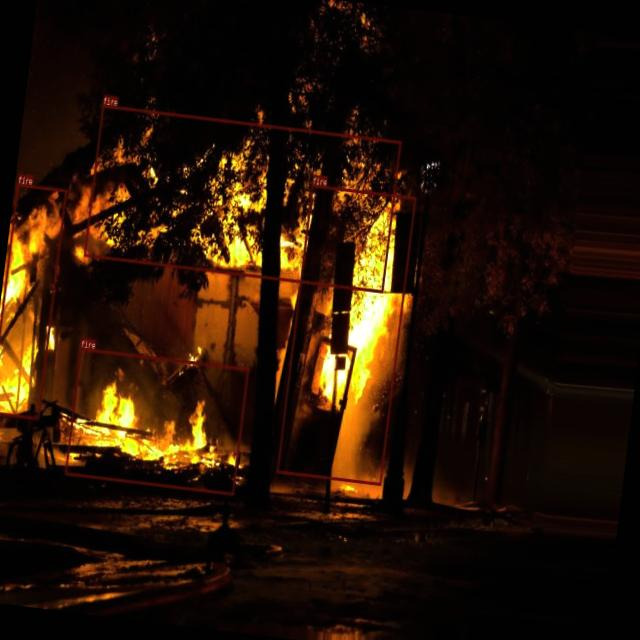fire: (84, 104, 400, 292), (276, 183, 416, 485), (64, 347, 248, 495), (0, 183, 66, 419)
